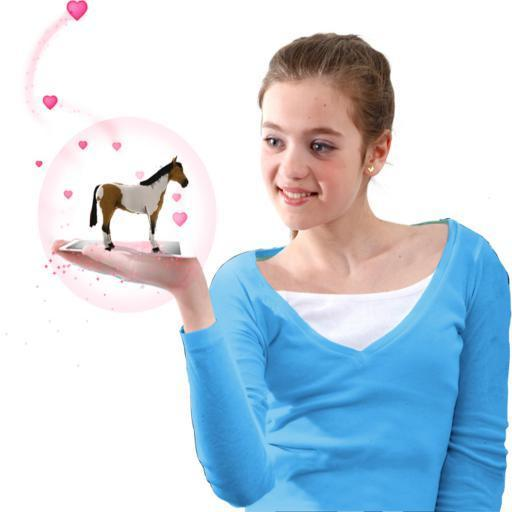horse: (88, 151, 190, 255)
